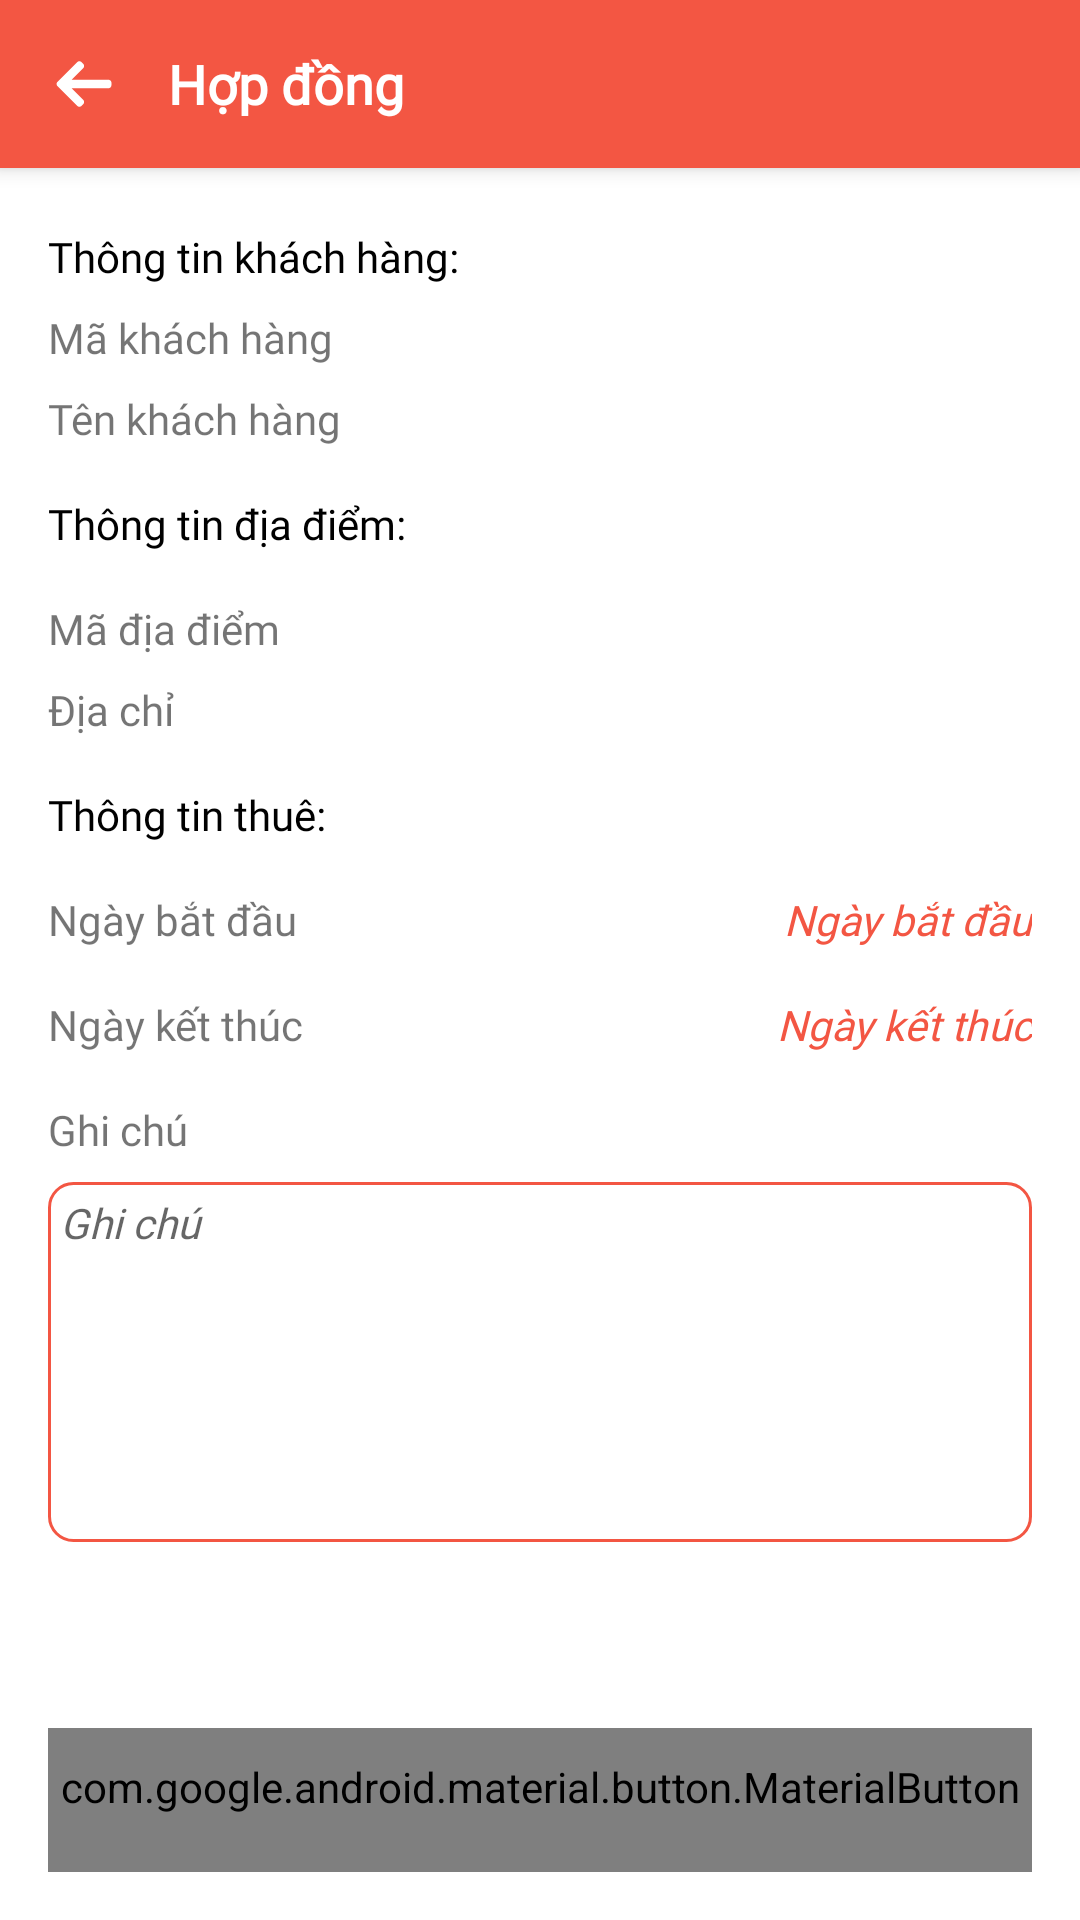

Icons on this 1080*1920 Android screen, each with its box as (x1, y1, x2, y2):
back: (56, 61, 112, 107)
